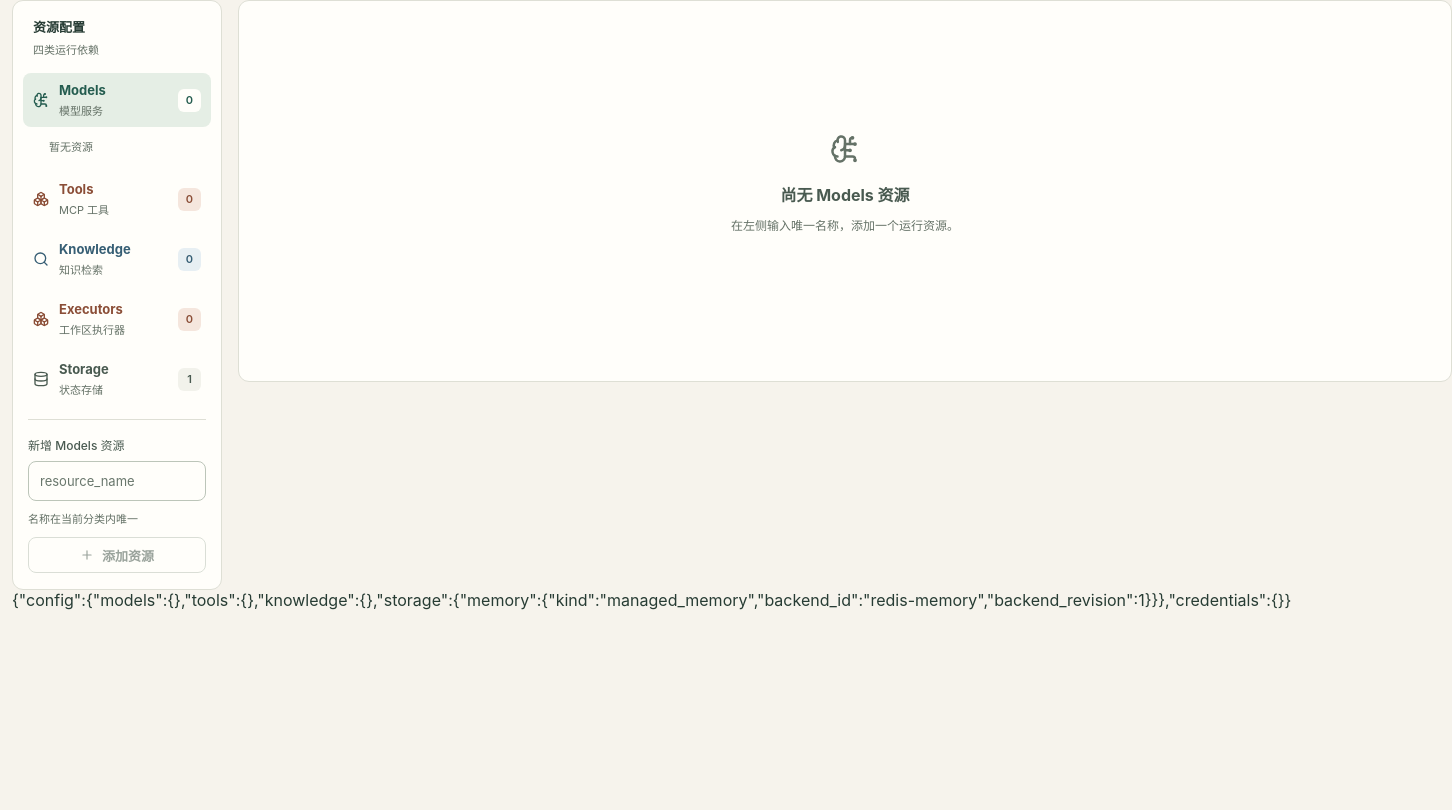
Test: preserves credential state without editing for changed revision
The image size is (1452, 810).
Click the button with aria-label "Storage ·".
click(117, 379)  # box x1=23 y1=352 x2=211 y2=406
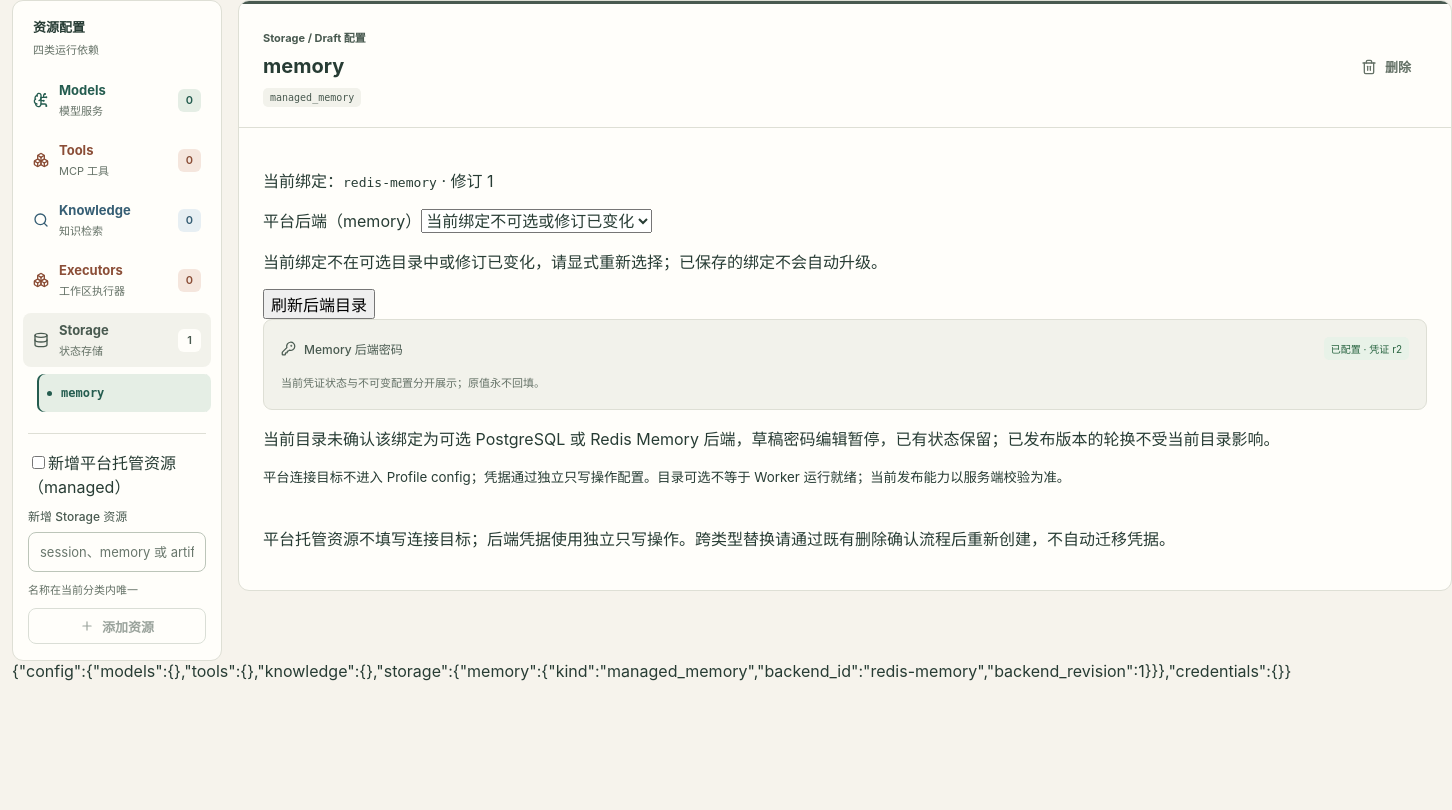
Expected: the text "当前绑定不在可选目录中或修订已变化，请显式重新选择；已保存的绑定不会自动升级。" is shown, x1=263 y1=252 x2=887 y2=272
Expected: the element "Memory 后端密码" shows "凭证 r2", x1=1331 y1=343 x2=1402 y2=355
